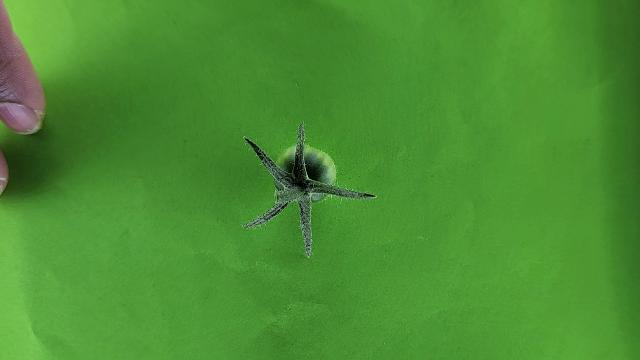Fruit Maturation: (272, 143, 339, 203)
